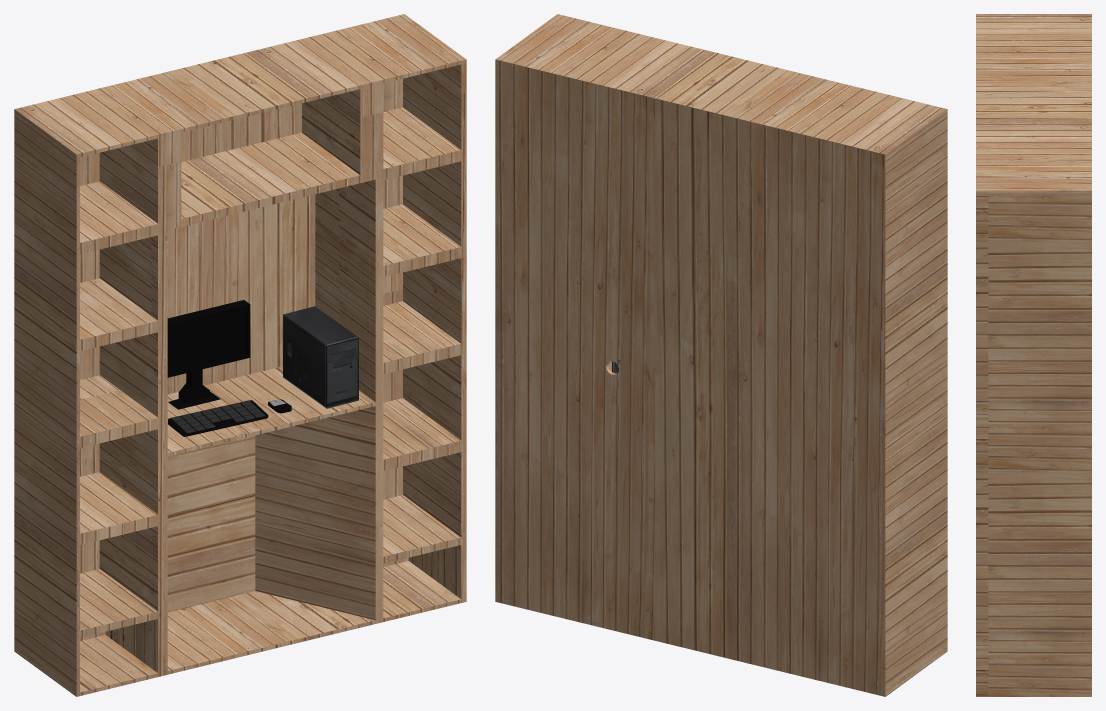
The model's file is PcOnDeskShelf.glb.
The picture shows the model from 3 angles, left to right: view 1: azimuth 30°, elevation 25°; view 2: azimuth 150°, elevation 25°; view 3: azimuth 270°, elevation 25°; orthographic projection. The views are drawn at different scales.
Visible parts, largest first — view 1: Table, Cube, monitor, Keyboard; view 2: Table; view 3: Table.
Part boxes in pixels (<box>): Table: <box>14,14,466,696</box>; Cube: <box>283,306,358,408</box>; monitor: <box>167,300,250,409</box>; Keyboard: <box>168,400,268,436</box>; Table: <box>495,14,947,696</box>; Table: <box>976,14,1091,696</box>.
Size of the model in its own units: 30.54 by 40.59 by 8.42.
6 materials, 2 textured.
